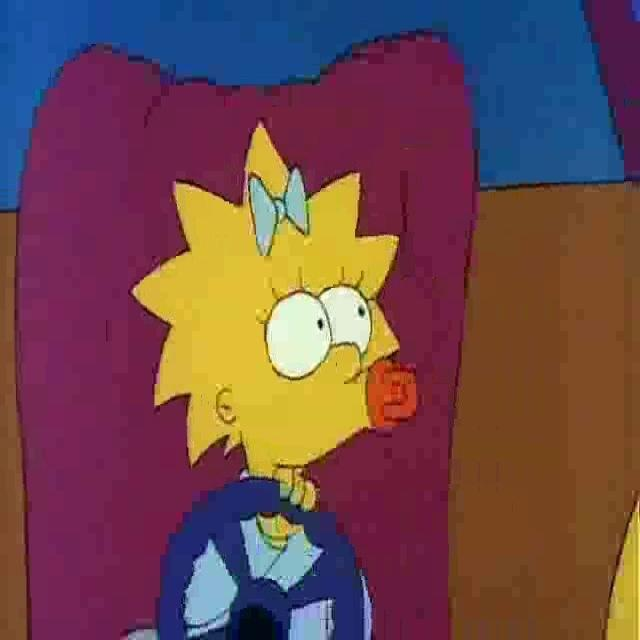Maggie Simpson: (128, 120, 422, 491)
